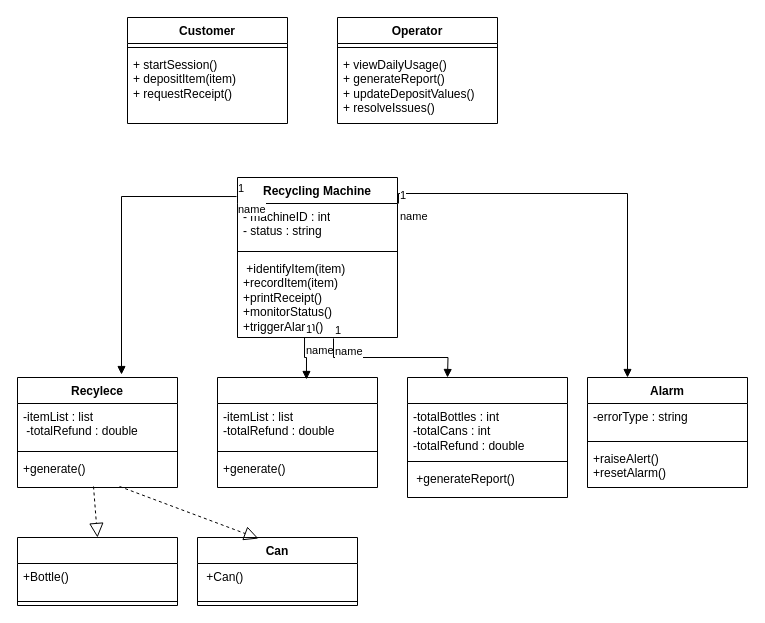
Some shapes in this 765 by 623 pixel diagram are drawn without their labels. The box of each missing label's shape, as (x1, y1, x2, y2) in pixels:
Biottle: (16, 536, 178, 606)
Daily Report: (406, 376, 568, 498)
Receipt: (216, 376, 378, 488)
